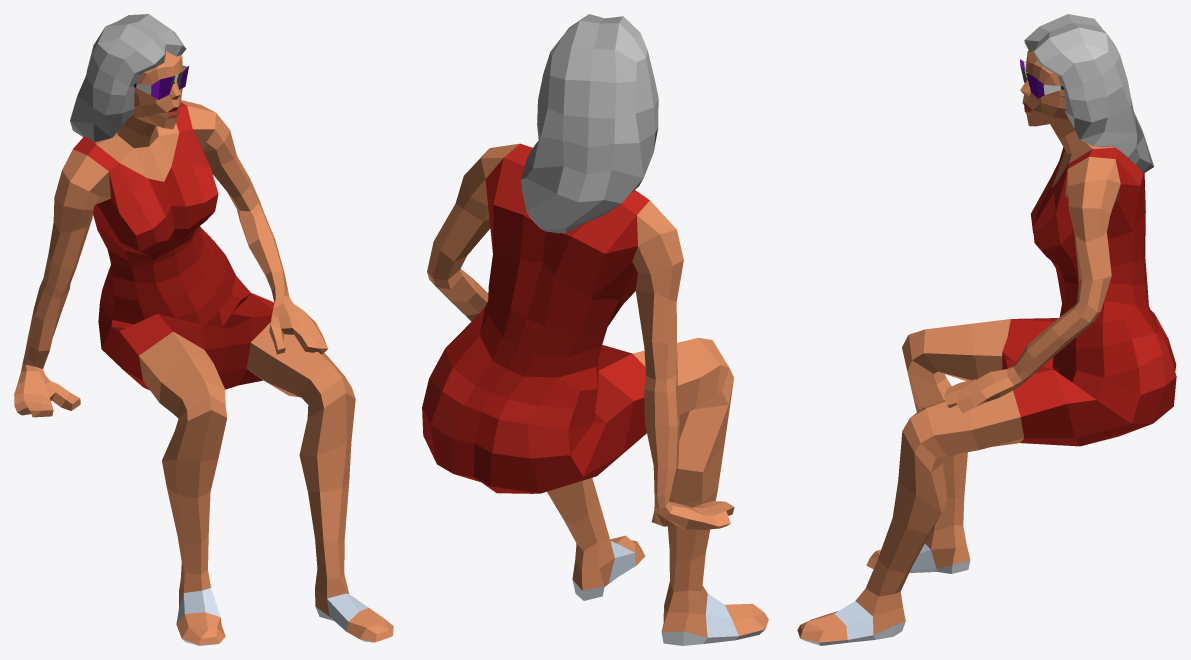
The picture shows the model from 3 angles, left to right: view 1: azimuth 30°, elevation 25°; view 2: azimuth 150°, elevation 25°; view 3: azimuth 270°, elevation 25°; orthographic projection. The views are drawn at different scales.
Parts seen in each view (by area): view 1: lpFemale_casuaD_sitting_handside_peopleColors_0; view 2: lpFemale_casuaD_sitting_handside_peopleColors_0; view 3: lpFemale_casuaD_sitting_handside_peopleColors_0.
Boxes of the visible parts, box(x1,y1,x2,y2) form: lpFemale_casuaD_sitting_handside_peopleColors_0: box(14, 14, 393, 645); lpFemale_casuaD_sitting_handside_peopleColors_0: box(422, 14, 768, 645); lpFemale_casuaD_sitting_handside_peopleColors_0: box(797, 14, 1176, 645).
Size of the model in its own units: 61.98 by 129 by 78.94.
